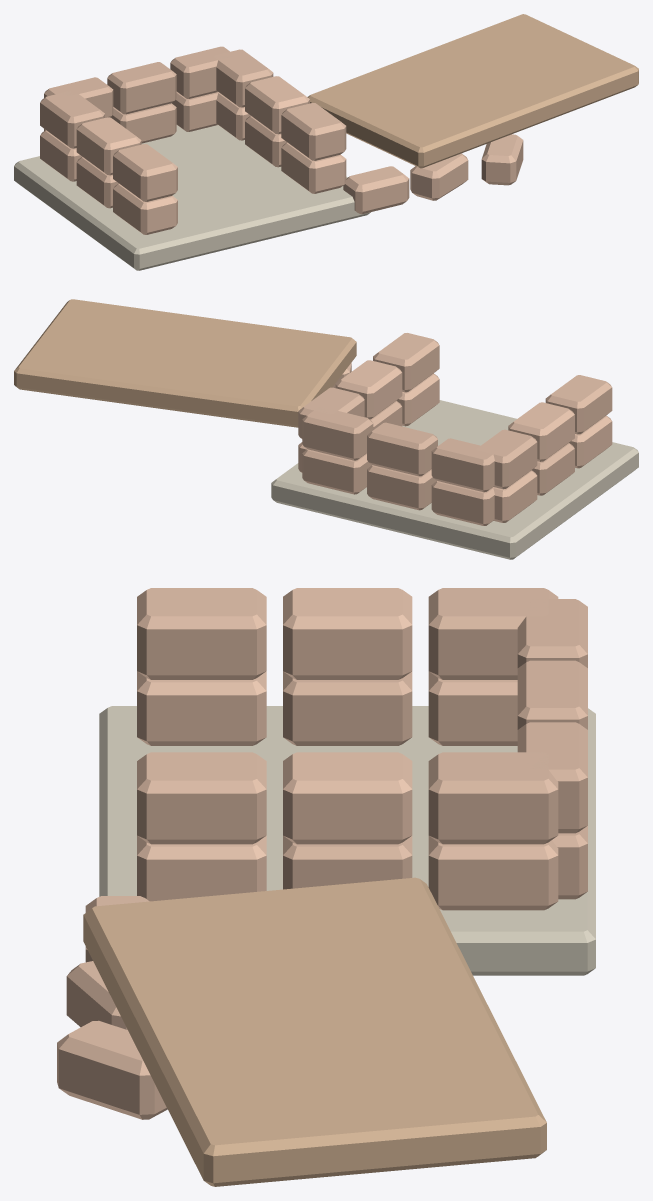
File: crafted-kitchen-1-building.glb
The picture shows the model from 3 angles, top to bottom: view 1: azimuth 30°, elevation 25°; view 2: azimuth 150°, elevation 25°; view 3: azimuth 270°, elevation 25°; orthographic projection. The views are drawn at different scales.
Parts seen in each view (by area): view 1: fallen-counter, hearth, firebox-brick-11, firebox-brick-8, rear-brick-4, loose-brick, firebox-brick-7, firebox-brick-10, firebox-brick-6, firebox-brick-5, firebox-brick-2, rear-brick-5 (+10 smaller); view 2: fallen-counter, hearth, rear-brick-4, rear-brick-5, rear-brick-3, firebox-brick-10, firebox-brick-8, firebox-brick-7, firebox-brick-11, firebox-brick-6, rear-brick-2, rear-brick-1 (+7 smaller); view 3: fallen-counter, hearth, firebox-brick-10, firebox-brick-11, firebox-brick-8, firebox-brick-7, firebox-brick-9, firebox-brick-6, firebox-brick-3, firebox-brick-2, firebox-brick-1, loose-brick-2 (+8 smaller).
Part boxes in pixels (left/top/right/bottom): fallen-counter: left=307, top=14, right=638, bottom=168; hearth: left=14, top=125, right=370, bottom=270; firebox-brick-11: left=281, top=103, right=346, bottom=160; firebox-brick-8: left=113, top=144, right=177, bottom=201; rear-brick-4: left=107, top=62, right=176, bottom=114; loose-brick: left=343, top=166, right=409, bottom=214; firebox-brick-7: left=76, top=117, right=141, bottom=175; firebox-brick-10: left=245, top=76, right=309, bottom=134; firebox-brick-6: left=40, top=91, right=104, bottom=148; firebox-brick-5: left=281, top=142, right=346, bottom=193; firebox-brick-2: left=113, top=183, right=177, bottom=234; rear-brick-5: left=170, top=46, right=233, bottom=98; fallen-counter: left=14, top=299, right=356, bottom=427; hearth: left=271, top=400, right=638, bottom=559; rear-brick-4: left=367, top=422, right=437, bottom=476; rear-brick-5: left=302, top=407, right=373, bottom=460; rear-brick-3: left=431, top=438, right=497, bottom=492; firebox-brick-10: left=335, top=360, right=402, bottom=419; firebox-brick-8: left=545, top=375, right=612, bottom=434; firebox-brick-7: left=508, top=402, right=574, bottom=461; firebox-brick-11: left=373, top=333, right=439, bottom=392; firebox-brick-6: left=476, top=429, right=537, bottom=489; rear-brick-2: left=302, top=449, right=371, bottom=494; rear-brick-1: left=367, top=465, right=436, bottom=510; fallen-counter: left=83, top=877, right=546, bottom=1186; hearth: left=99, top=706, right=595, bottom=975; firebox-brick-10: left=283, top=752, right=412, bottom=844; firebox-brick-11: left=137, top=752, right=266, bottom=844; firebox-brick-8: left=137, top=588, right=266, bottom=679; firebox-brick-7: left=283, top=588, right=412, bottom=679; firebox-brick-9: left=428, top=752, right=558, bottom=844; firebox-brick-6: left=428, top=588, right=558, bottom=679; firebox-brick-3: left=428, top=836, right=558, bottom=910; firebox-brick-2: left=137, top=671, right=266, bottom=745; firebox-brick-1: left=283, top=671, right=412, bottom=745; loose-brick-2: left=57, top=1020, right=167, bottom=1119.
Bounding box in the file's own units: 2.27 × 0.365 × 0.9983.
